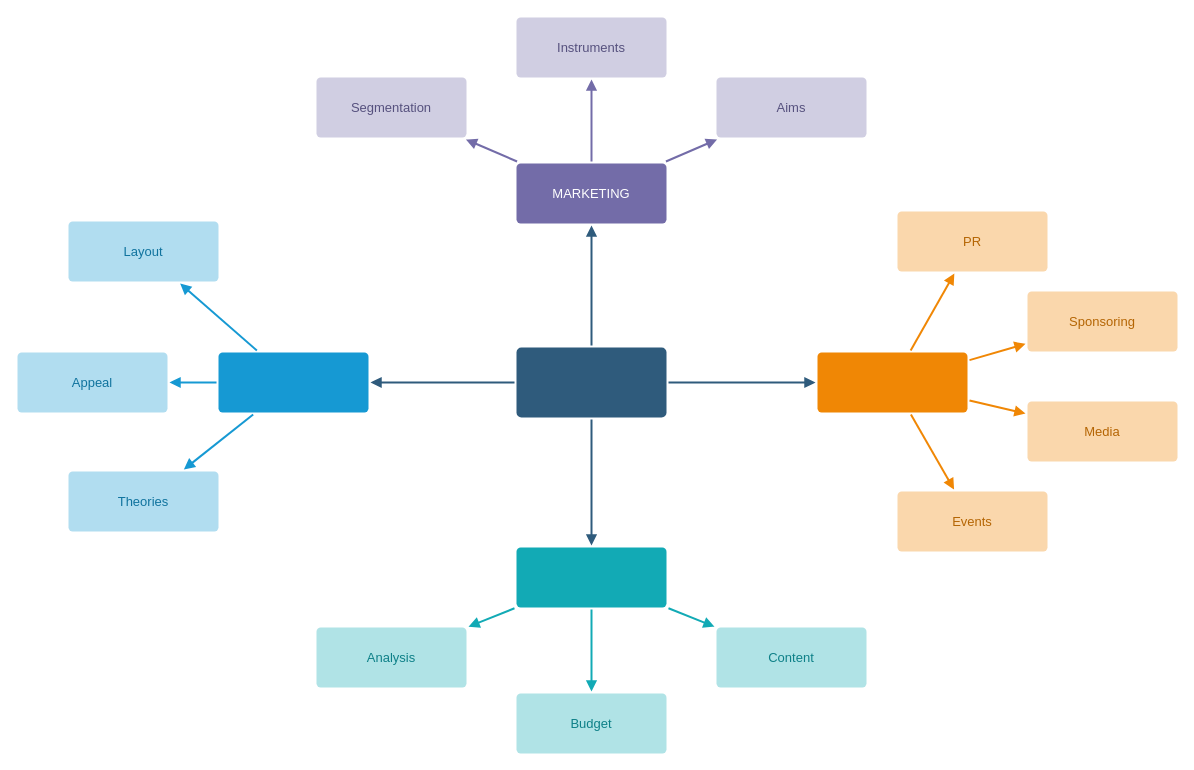
This 1194x770 diagram has some shape labels left out. Here are the shapes that lost their labels. From the top down, the centre of each, then its label:
At (293,382): "PERSUASION".
At (591,382): "ADVERTISING".
At (892,382): "COMMUNICATION".
At (591,577): "ORGANIZATION".
